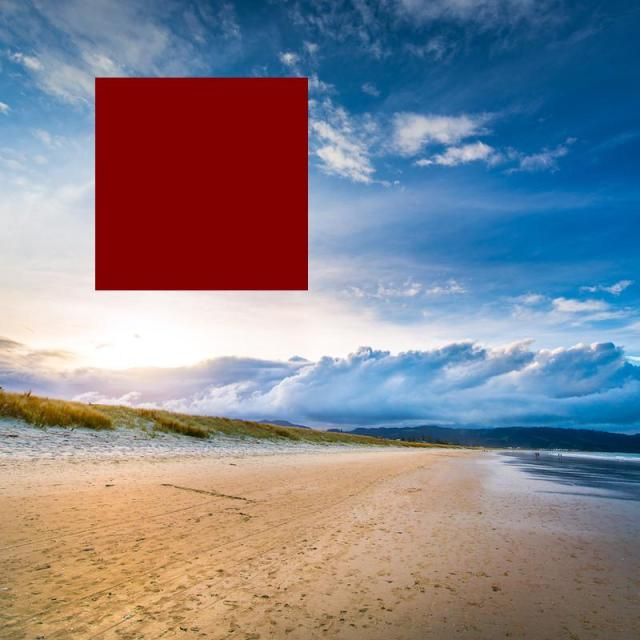RedSquare: (92, 72, 317, 298)
